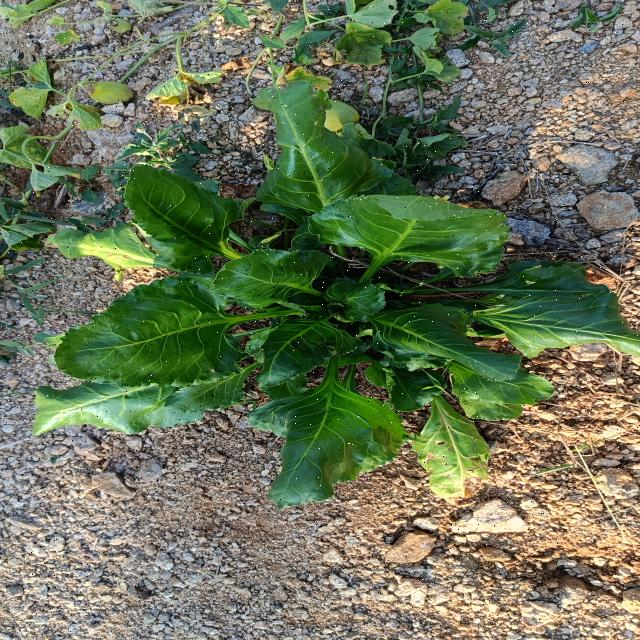leaves: (32, 259, 303, 394), (223, 46, 420, 230), (8, 318, 271, 450), (257, 361, 430, 537), (306, 180, 519, 295), (448, 266, 637, 380), (106, 161, 257, 295), (373, 378, 501, 524), (357, 302, 518, 387), (40, 222, 219, 293), (440, 360, 551, 436), (208, 240, 328, 305), (313, 275, 413, 323)
